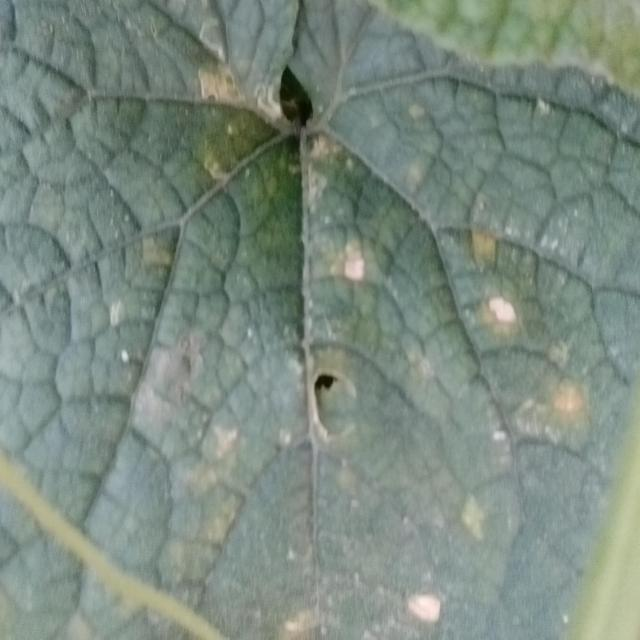cucumber_downy: (0, 1, 637, 640)
